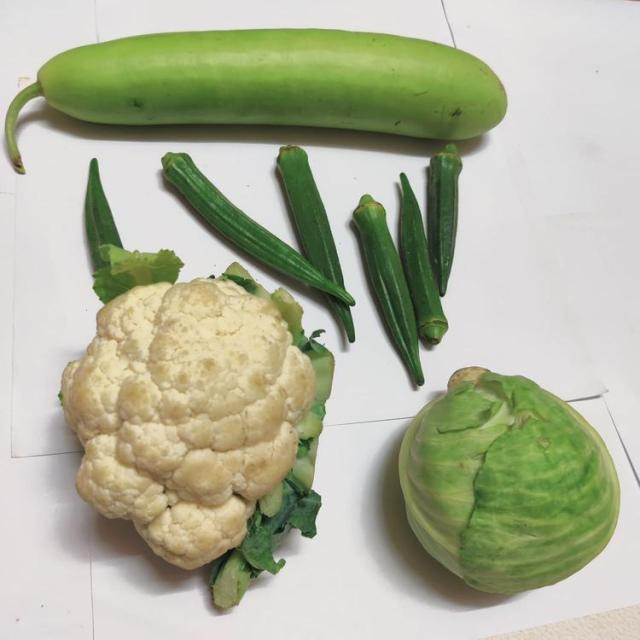Organik: (56, 281, 337, 608), (9, 24, 509, 141), (396, 368, 623, 599), (356, 146, 465, 372), (167, 146, 349, 259), (84, 159, 120, 250)
